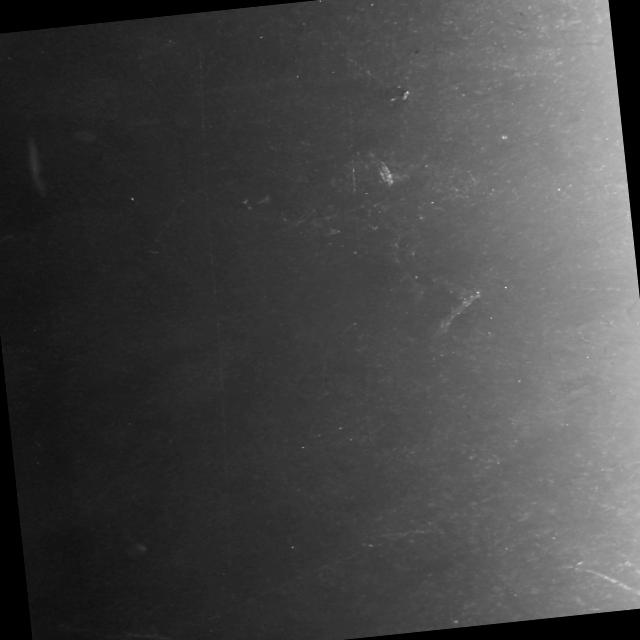beta: (192, 489, 538, 622), (140, 153, 348, 250), (570, 553, 640, 615), (327, 35, 390, 91), (564, 276, 638, 298), (96, 623, 175, 640), (623, 428, 640, 481)
